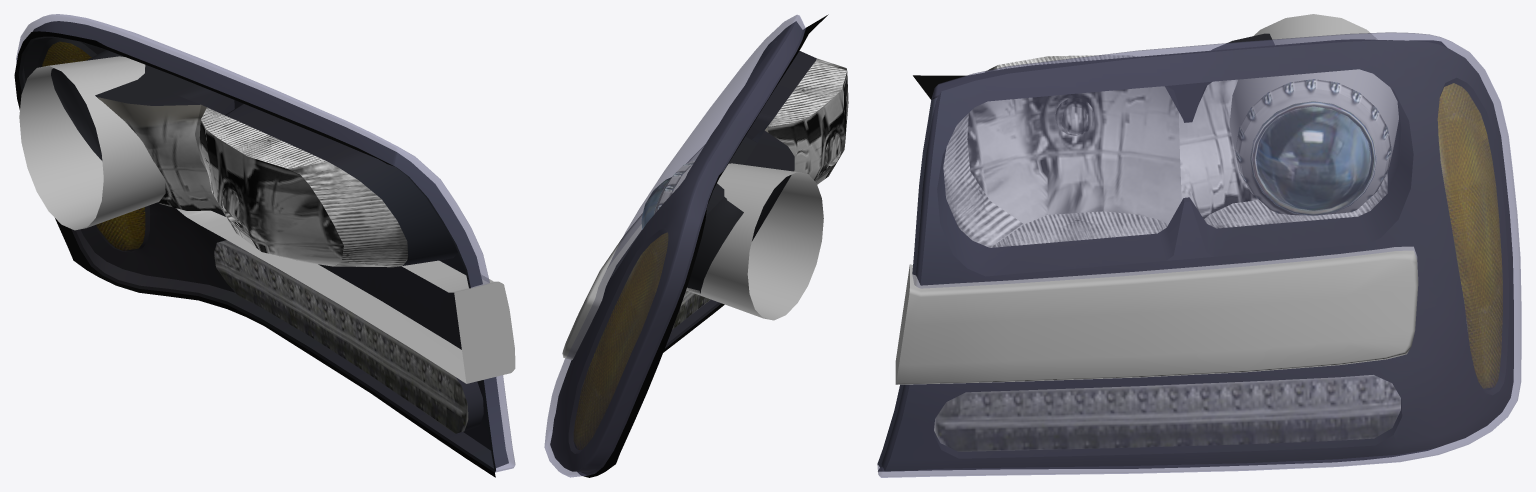
The picture shows the model from 3 angles, left to right: view 1: azimuth 30°, elevation 25°; view 2: azimuth 150°, elevation 25°; view 3: azimuth 270°, elevation 25°; orthographic projection. The views are drawn at different scales.
Visible parts, largest first — view 1: U843_9A_061B_L_U843_9A_061B_L_2_N, U843_9A_061B_L_U843_9A_061B_L_3_DTaSI, U843_9A_061B_L_1_DaS_U843_9A_061B_L, U843_9A_061B_L_U843_9A_061B_L_4_D; view 2: U843_9A_061B_L_U843_9A_061B_L_2_N, U843_9A_061B_L_U843_9A_061B_L_3_DTaSI, U843_9A_061B_L_U843_9A_061B_L_4_D, U843_9A_061B_L_1_DaS_U843_9A_061B_L; view 3: U843_9A_061B_L_U843_9A_061B_L_3_DTaSI, U843_9A_061B_L_U843_9A_061B_L_2_N, U843_9A_061B_L_1_DaS_U843_9A_061B_L, U843_9A_061B_L_U843_9A_061B_L_4_D.
Boxes of the visible parts, bbox=[...] form: U843_9A_061B_L_U843_9A_061B_L_2_N: bbox=[18, 21, 508, 472]; U843_9A_061B_L_U843_9A_061B_L_3_DTaSI: bbox=[16, 14, 515, 472]; U843_9A_061B_L_1_DaS_U843_9A_061B_L: bbox=[176, 208, 515, 383]; U843_9A_061B_L_U843_9A_061B_L_4_D: bbox=[14, 31, 495, 477]; U843_9A_061B_L_U843_9A_061B_L_2_N: bbox=[550, 21, 848, 475]; U843_9A_061B_L_U843_9A_061B_L_3_DTaSI: bbox=[544, 15, 805, 477]; U843_9A_061B_L_U843_9A_061B_L_4_D: bbox=[578, 14, 828, 477]; U843_9A_061B_L_1_DaS_U843_9A_061B_L: bbox=[562, 145, 704, 359]; U843_9A_061B_L_U843_9A_061B_L_3_DTaSI: bbox=[877, 32, 1521, 477]; U843_9A_061B_L_U843_9A_061B_L_2_N: bbox=[877, 14, 1513, 471]; U843_9A_061B_L_1_DaS_U843_9A_061B_L: bbox=[895, 246, 1418, 384]; U843_9A_061B_L_U843_9A_061B_L_4_D: bbox=[878, 39, 1446, 471].
Size of the model in its own units: 20.47 by 25.22 by 40.9.
